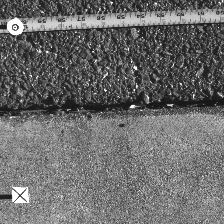circle: (6, 18, 24, 35)
crack: (1, 96, 223, 119)
square: (11, 186, 29, 204)
